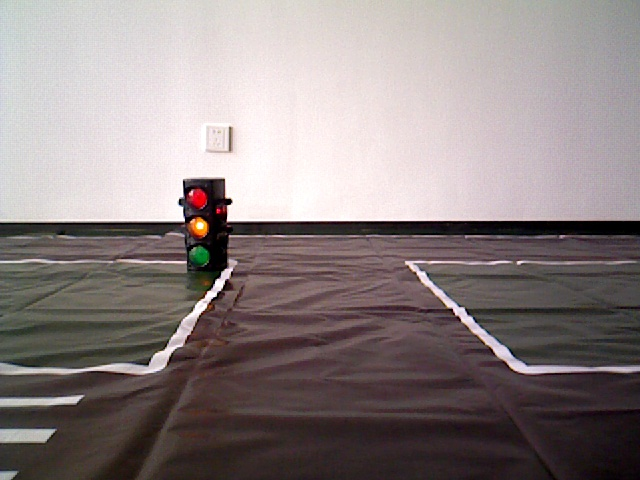yellow: (180, 179, 225, 274)
